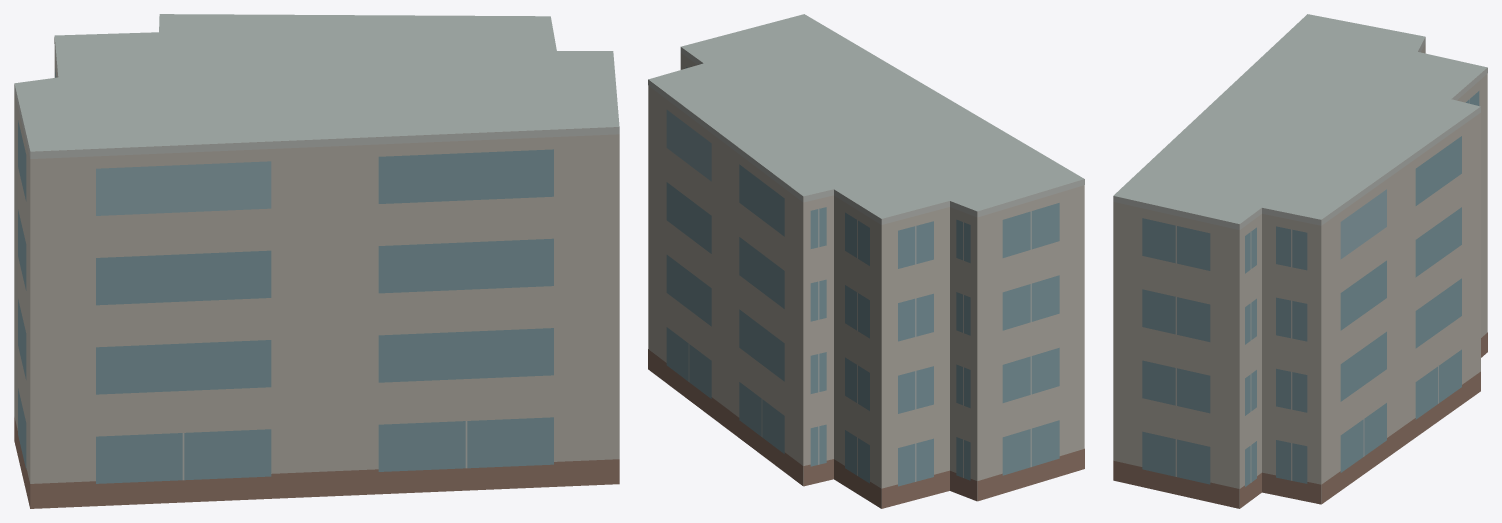
The model's file is survey-upis-32989491.glb.
The picture shows the model from 3 angles, left to right: view 1: azimuth 30°, elevation 25°; view 2: azimuth 150°, elevation 25°; view 3: azimuth 270°, elevation 25°; orthographic projection. The views are drawn at different scales.
Parts seen in each view (by area): view 1: survey-upis-32989491.tmp; view 2: survey-upis-32989491.tmp; view 3: survey-upis-32989491.tmp.
Part boxes in pixels (x1=…): survey-upis-32989491.tmp: x1=14, y1=14, x2=619, y2=508; survey-upis-32989491.tmp: x1=648, y1=14, x2=1084, y2=508; survey-upis-32989491.tmp: x1=1113, y1=14, x2=1487, y2=508.
Size of the model in its own units: 18.45 by 11.65 by 13.9.
